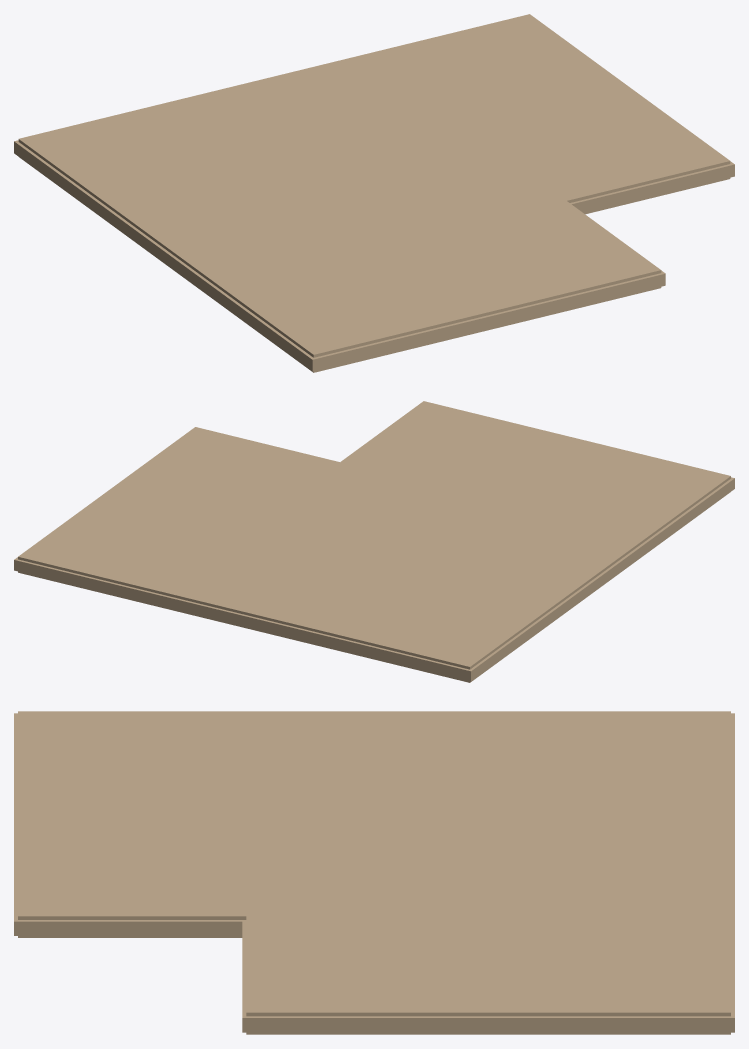
The model's file is fitted-kitchen-and-bathroom-builder-worktop-corner-ret-885d4123__17845.glb.
The picture shows the model from 3 angles, top to bottom: view 1: azimuth 30°, elevation 25°; view 2: azimuth 150°, elevation 25°; view 3: azimuth 270°, elevation 25°; orthographic projection. The views are drawn at different scales.
Visible parts, largest first — view 1: worktop-corner-return; view 2: worktop-corner-return; view 3: worktop-corner-return.
Part boxes in pixels (x1,y1,x2,y2): worktop-corner-return: (14, 14, 734, 372); worktop-corner-return: (14, 401, 734, 682); worktop-corner-return: (14, 711, 734, 1034).
Size of the model in its own units: 0.9 by 0.03 by 0.9.
